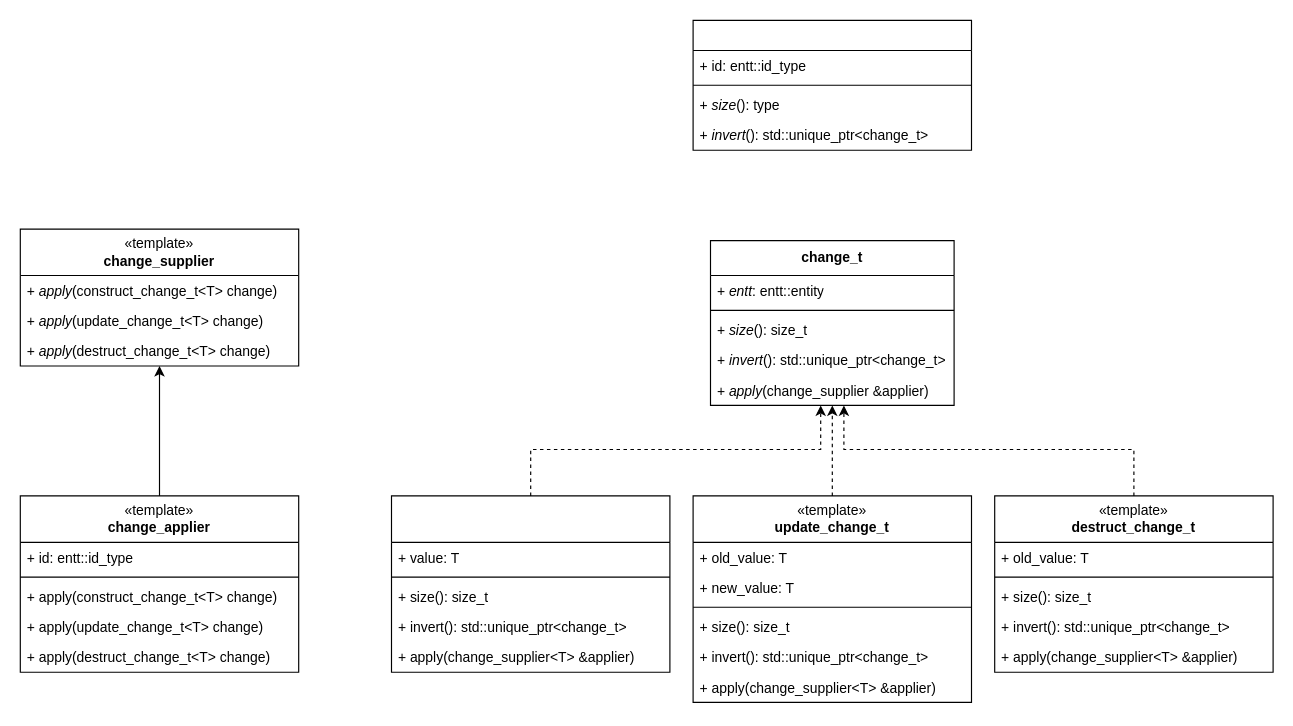
This 1293x726 diagram has some shape labels left out. Each missing label, with the box of its shape:
component_changes_t: (692, 19, 971, 150)
«template» construct_ change_t: (390, 495, 670, 672)
